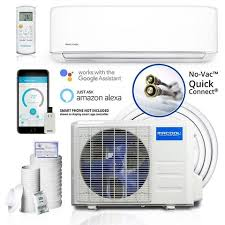ac: (48, 2, 219, 66)
